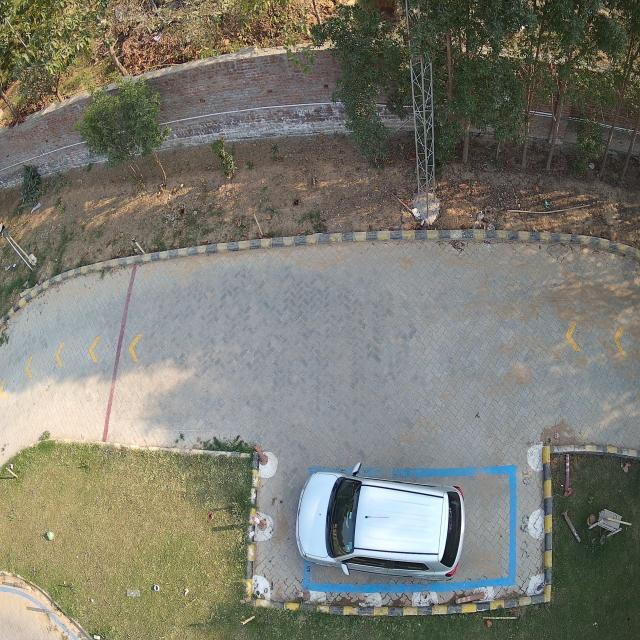car: (295, 472, 465, 582)
